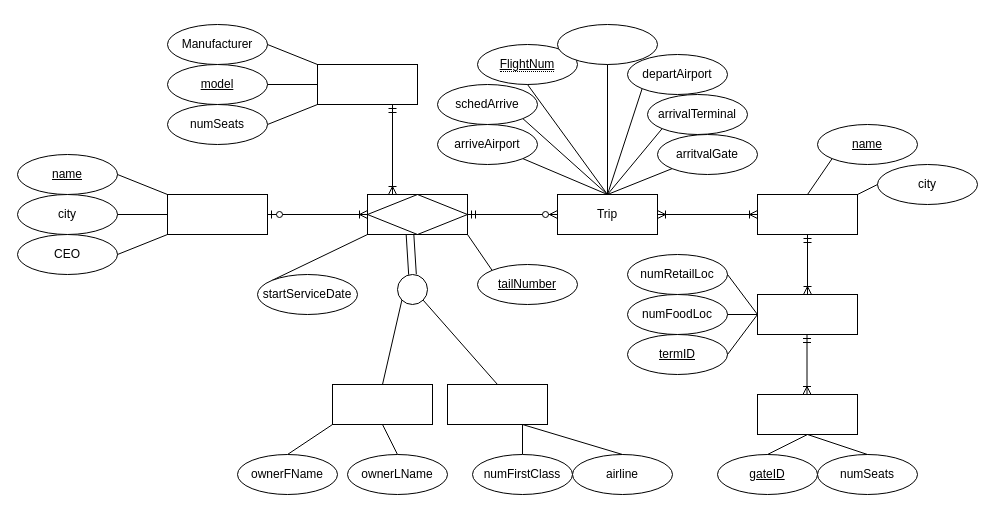
This 995x512 diagram has some shape labels left out. Here are the shapes that lost their labels. From the top down, the centre of each, then its label:
At point (607, 44): "schedDepart".
At point (367, 84): "TypeAircraft".
At point (217, 214): "AirlineCompany".
At point (417, 214): "Aircraft".
At point (807, 214): "Airport".
At point (807, 314): "Terminal".
At point (382, 404): "Private".
At point (497, 404): "Commercial".
At point (807, 414): "Gate".
